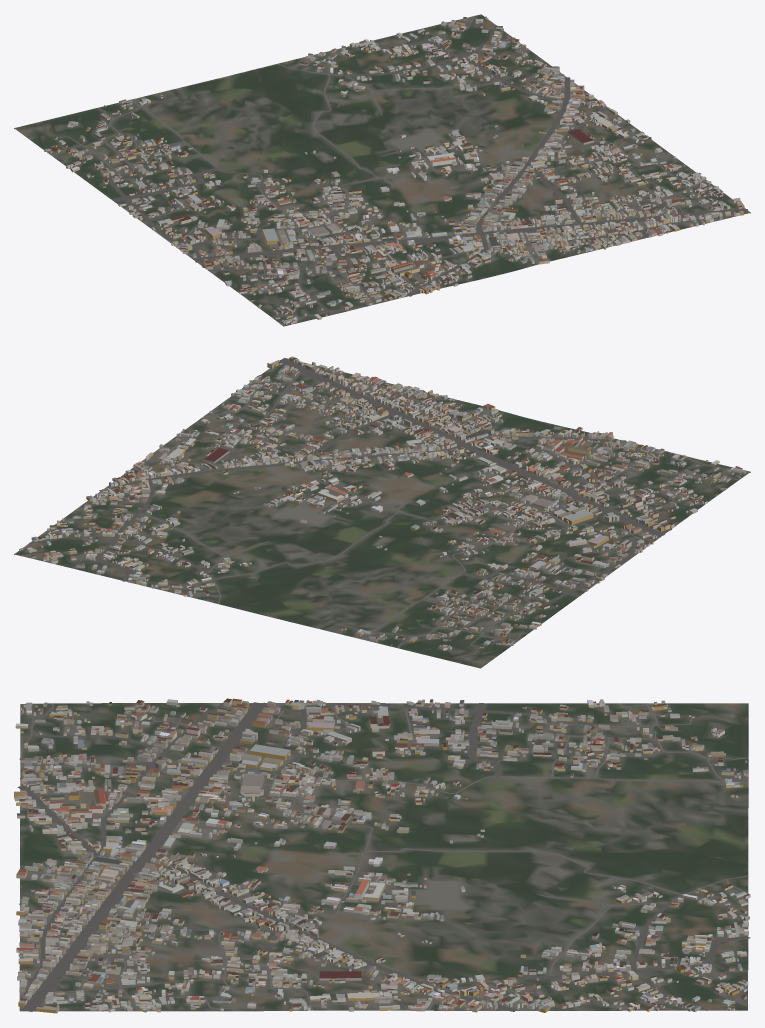
The picture shows the model from 3 angles, top to bottom: view 1: azimuth 30°, elevation 25°; view 2: azimuth 150°, elevation 25°; view 3: azimuth 270°, elevation 25°; orthographic projection. The views are drawn at different scales.
Parts seen in each view (by area): view 1: ground, buildings, roads; view 2: ground, buildings, roads; view 3: ground, buildings, roads.
Boxes of the visible parts, x1,y1,x2,y2 form: ground: [14, 14, 750, 326]; buildings: [44, 16, 744, 324]; roads: [47, 15, 748, 317]; ground: [14, 357, 750, 668]; buildings: [19, 356, 746, 650]; roads: [21, 358, 738, 648]; ground: [19, 703, 748, 1011]; buildings: [14, 698, 750, 1013]; roads: [17, 702, 750, 1011].
Bounding box in the file's own units: 1414 × 23.05 × 1417.
